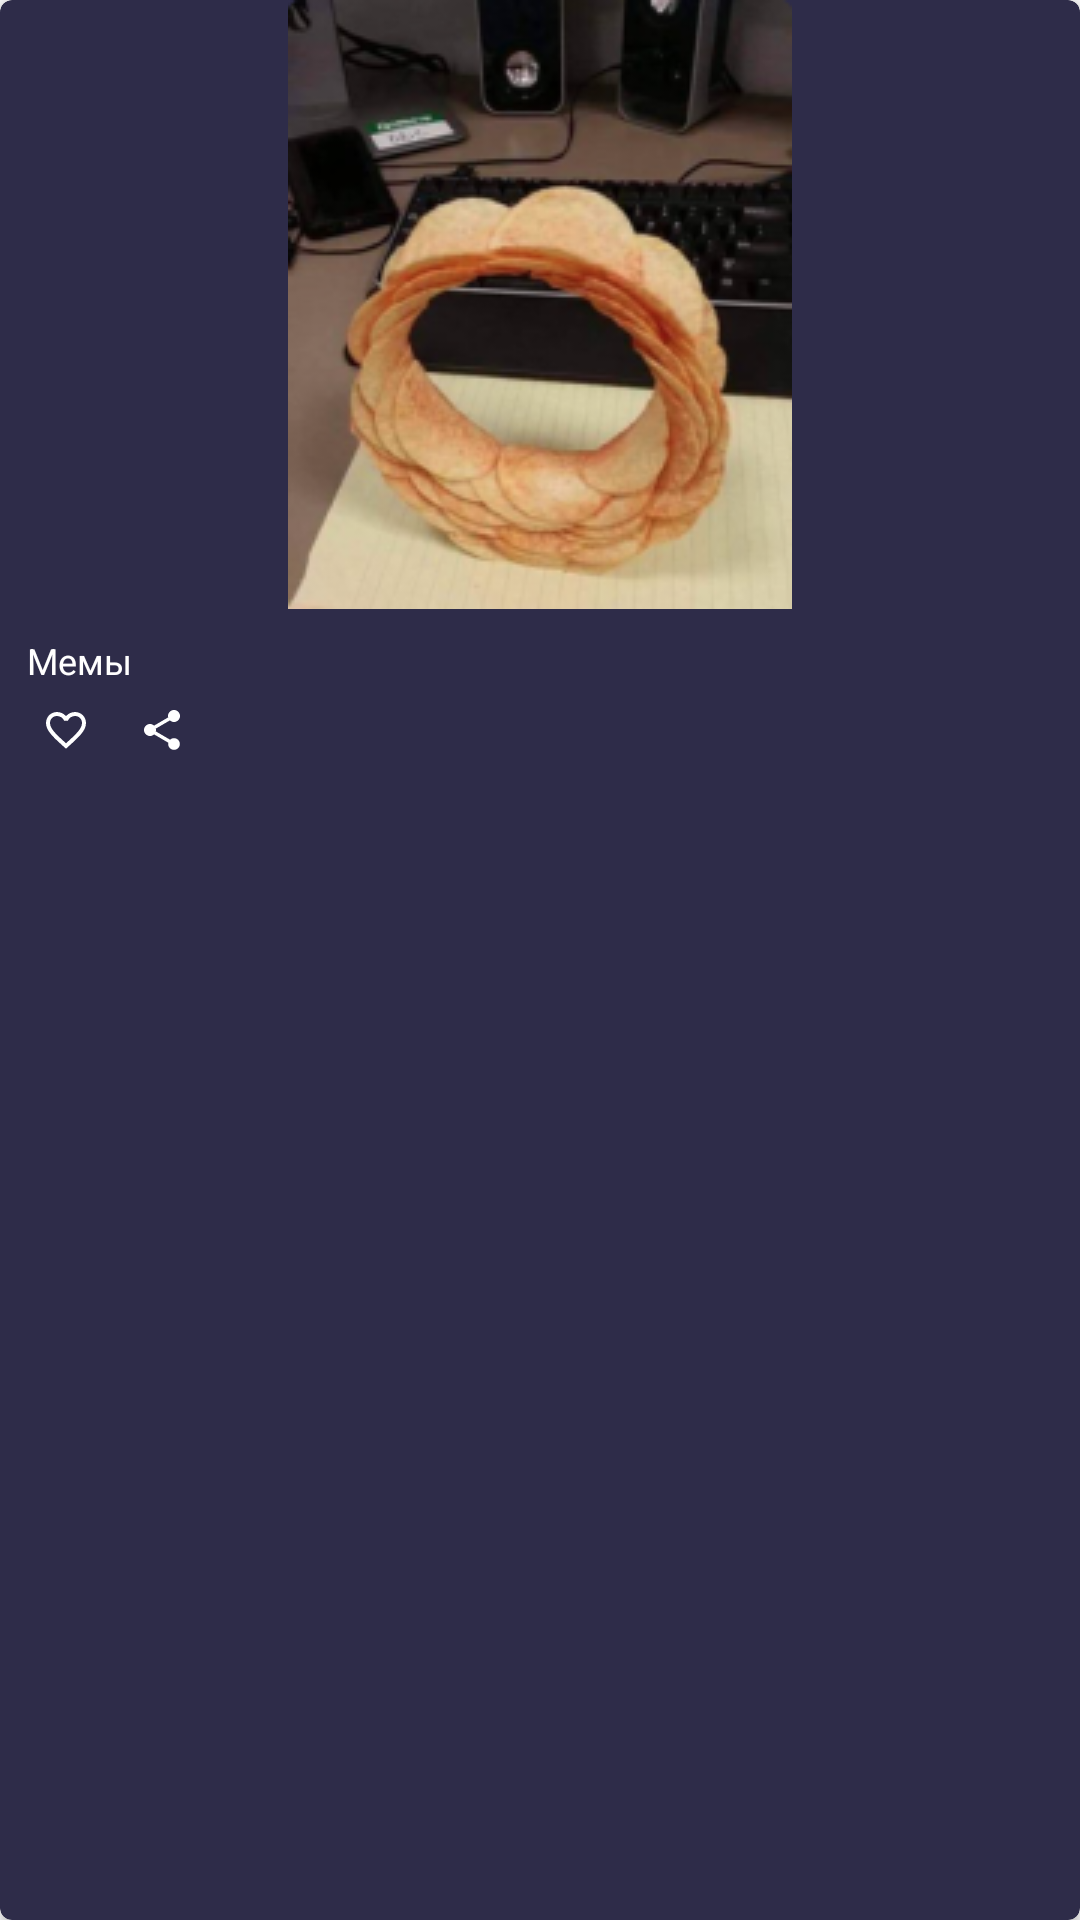

Icons on this 1080*1920 Android screen, each with the point to tap as (x,y):
favorite: (66,730)
share: (162,730)
